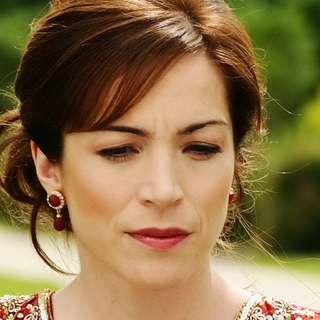eye: (93, 140, 144, 164), (177, 138, 223, 163)
